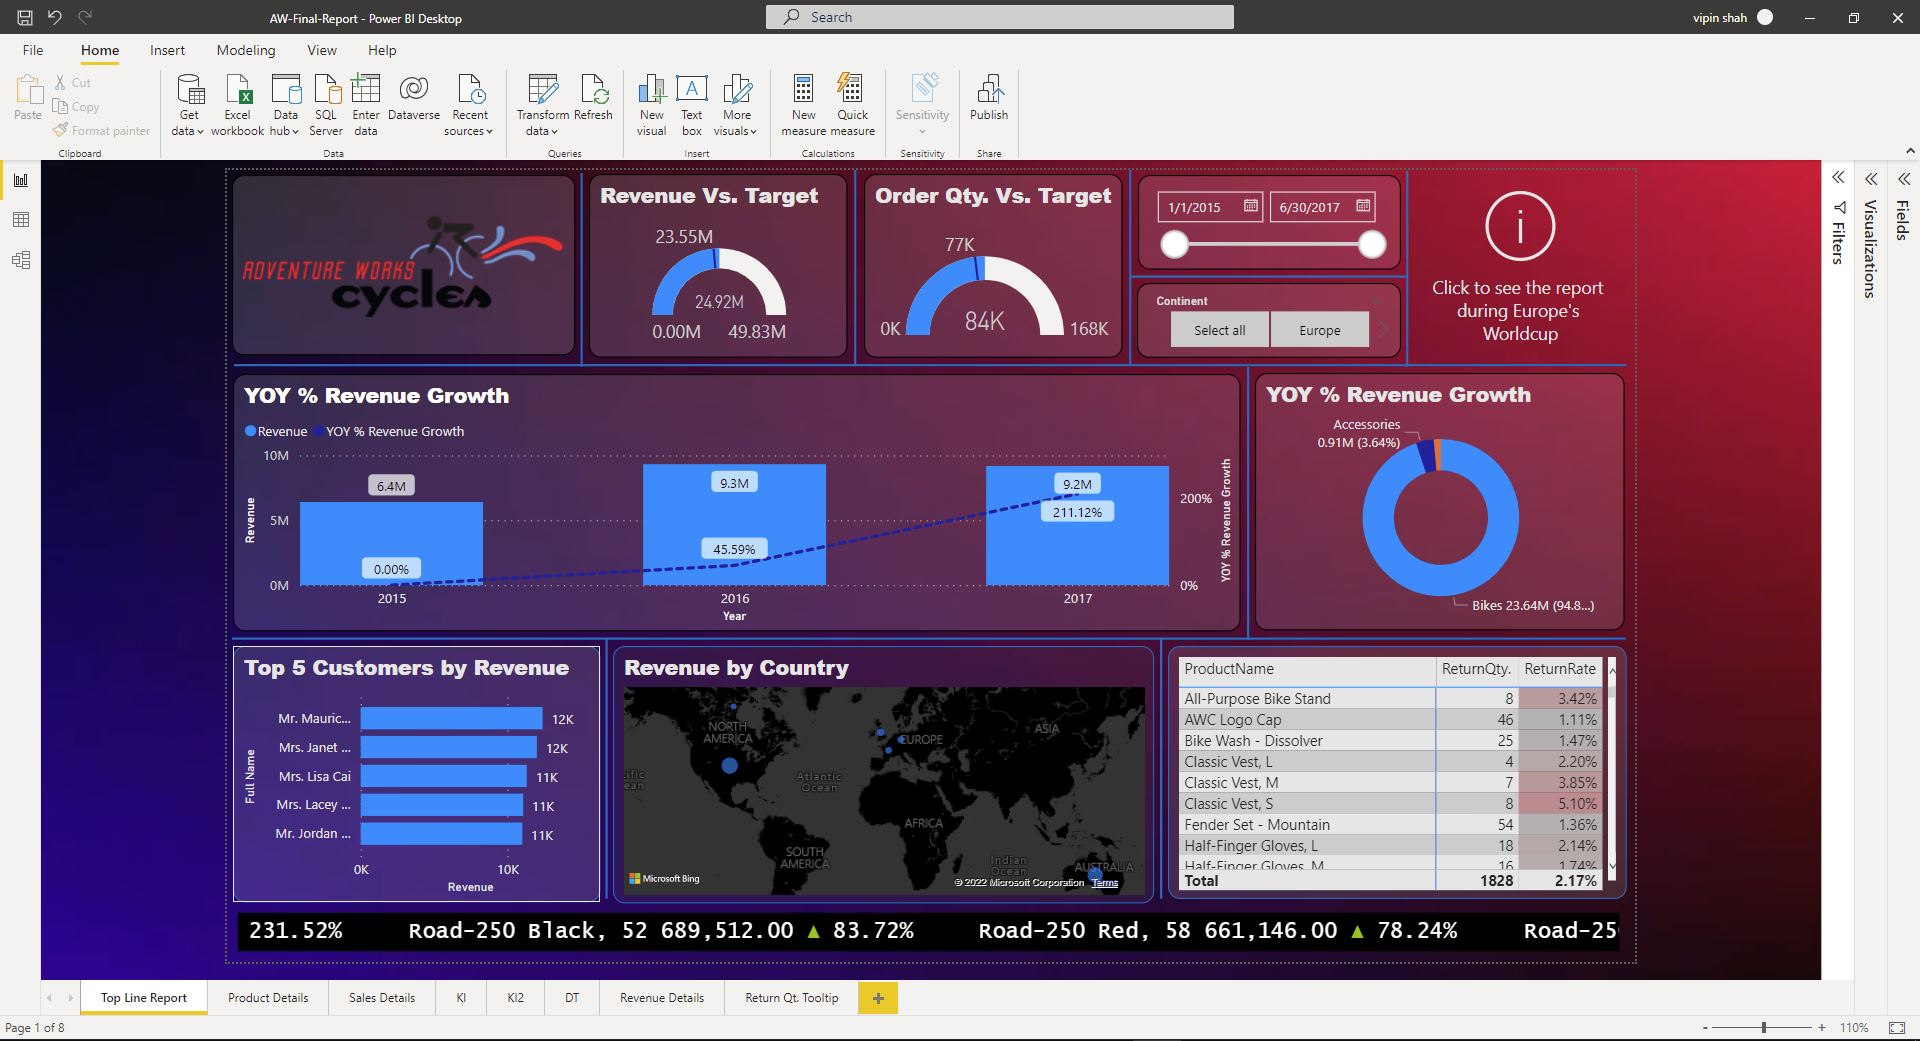

The dashboard page shown, as its layout file describes it:
{"tool":"powerbi","page":{"name":"Top Line Report","canvas":[1280,720],"ordinal":0},"visuals":[{"type":"image","box":[4.5,4.5,311.8,163.6],"z":0},{"type":"lineStackedColumnComboChart","title":"YOY % Revenue Growth","fields":{"Category":["d-Calendar.Year"],"Y":["All Measures.Revenue"],"Y2":["All Measures.YOY % Revenue Growth"]},"box":[5.5,185.5,916.4,233.6],"z":1000},{"type":"donutChart","title":"YOY % Revenue Growth","fields":{"Category":["d-Product-Categories.Category Name"],"Y":["All Measures.Revenue"]},"box":[934.5,184.5,336.4,233.6],"z":2000},{"type":"shape","box":[4.5,420,1267.3,11.8],"z":3000},{"type":"shape","box":[6.2,171.1,1266.2,13.3],"z":4000},{"type":"shape","box":[921.8,179.1,12.7,248.2],"z":5000},{"type":"barChart","title":"Top 5 Customers by Revenue","fields":{"Y":["All Measures.Revenue"],"Category":["d-Customers.Full Name"]},"box":[5.5,432.7,333.6,232.7],"z":6000},{"type":"shape","box":[339.1,426.4,11.8,236.4],"z":7000},{"type":"map","fields":{"Category":["d-Territories.Country"],"Size":["All Measures.Revenue"]},"box":[350.9,432.7,491.8,233.6],"z":8000},{"type":"shape","box":[842.7,426.4,12.7,236.4],"z":9000},{"type":"pivotTable","fields":{"Rows":["d-Products.ProductName"],"Values":["Sum(f-Returns.ReturnQuantity)","All Measures.Return Rate"]},"box":[855.5,432.7,417.3,230],"z":10000},{"type":"shape","box":[316.6,2.7,12.4,175.6],"z":11000},{"type":"gauge","title":"Revenue Vs. Target","fields":{"Y":["All Measures.Revenue"],"TargetValue":["All Measures.Target Revenue"]},"box":[329.1,3.6,234.5,167.3],"z":12000},{"type":"shape","box":[563.9,0,15.1,178.2],"z":13000},{"type":"gauge","title":"Order Qty. Vs. Target","fields":{"Y":["All Measures.Total Order Qty."],"TargetValue":["All Measures.Target Order Qty."]},"box":[579.1,3.6,234.5,167.3],"z":14000},{"type":"shape","box":[814,0,15.1,178.2],"z":15000},{"type":"slicer","fields":{"Values":["d-Calendar.Date"]},"box":[828.2,4.5,239.1,86.4],"z":16000},{"type":"shape","box":[821.8,90.9,251.8,11.8],"z":17000},{"type":"slicer","fields":{"Values":["d-Territories.Continent"]},"box":[827.3,102.7,240,68.2],"z":18000},{"type":"shape","box":[1065.5,0.9,15.5,178.2],"z":19000},{"type":"actionButton","box":[1080.9,10.9,190,80],"z":20000},{"type":"textbox","box":[1080.9,90.9,190,77.3],"z":21000},{"type":"ScrollingTextVisual1448795304508","fields":{"Category":["d-Products.ProductName"],"Measure Absolute":["All Measures.Revenue"],"Measure Deviation":["All Measures.YOY % Revenue Growth"]},"box":[4.5,670,1266.4,45.5],"z":22000}]}

Visuals, with their boxes on the page's 1280x720 design canvas (x1, y1, x2, y2). These are canvas units, not pixel positions in the 1920x1041 screenshot, which may show the page scaled, cropped or inside an application window:
image: pyautogui.locateOnScreen(4, 4, 316, 168)
"YOY % Revenue Growth" lineStackedColumnComboChart: pyautogui.locateOnScreen(6, 186, 922, 419)
"YOY % Revenue Growth" donutChart: pyautogui.locateOnScreen(934, 184, 1271, 418)
shape: pyautogui.locateOnScreen(4, 420, 1272, 432)
shape: pyautogui.locateOnScreen(6, 171, 1272, 184)
shape: pyautogui.locateOnScreen(922, 179, 934, 427)
"Top 5 Customers by Revenue" barChart: pyautogui.locateOnScreen(6, 433, 339, 665)
shape: pyautogui.locateOnScreen(339, 426, 351, 663)
map - d-Territories.Country x All Measures.Revenue: pyautogui.locateOnScreen(351, 433, 843, 666)
shape: pyautogui.locateOnScreen(843, 426, 855, 663)
pivotTable - d-Products.ProductName x Sum(f-Returns.ReturnQuantity): pyautogui.locateOnScreen(856, 433, 1273, 663)
shape: pyautogui.locateOnScreen(317, 3, 329, 178)
"Revenue Vs. Target" gauge: pyautogui.locateOnScreen(329, 4, 564, 171)
shape: pyautogui.locateOnScreen(564, 0, 579, 178)
"Order Qty. Vs. Target" gauge: pyautogui.locateOnScreen(579, 4, 814, 171)
shape: pyautogui.locateOnScreen(814, 0, 829, 178)
slicer - d-Calendar.Date: pyautogui.locateOnScreen(828, 4, 1067, 91)
shape: pyautogui.locateOnScreen(822, 91, 1074, 103)
slicer - d-Territories.Continent: pyautogui.locateOnScreen(827, 103, 1067, 171)
shape: pyautogui.locateOnScreen(1066, 1, 1081, 179)
actionButton: pyautogui.locateOnScreen(1081, 11, 1271, 91)
textbox: pyautogui.locateOnScreen(1081, 91, 1271, 168)
ScrollingTextVisual1448795304508 - d-Products.ProductName x All Measures.Revenue: pyautogui.locateOnScreen(4, 670, 1271, 716)
